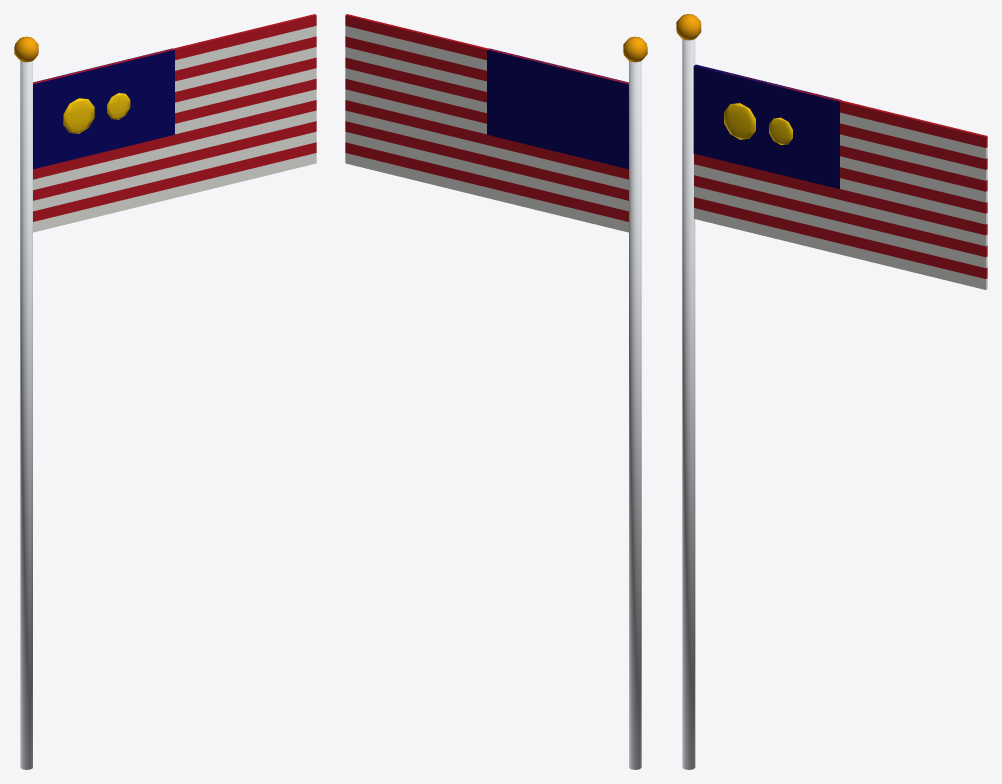
File: flag_pole.glb
The picture shows the model from 3 angles, left to right: view 1: azimuth 30°, elevation 25°; view 2: azimuth 150°, elevation 25°; view 3: azimuth 330°, elevation 25°; orthographic projection. The views are drawn at different scales.
Visible parts, largest first — view 1: flag_pole; view 2: flag_pole; view 3: flag_pole.
Part boxes in pixels (x1,y1,x2,y2): flag_pole: [14, 14, 316, 769]; flag_pole: [345, 14, 647, 769]; flag_pole: [676, 14, 987, 769].
Bounding box in the file's own units: 1.06 × 2.46 × 0.0761.
